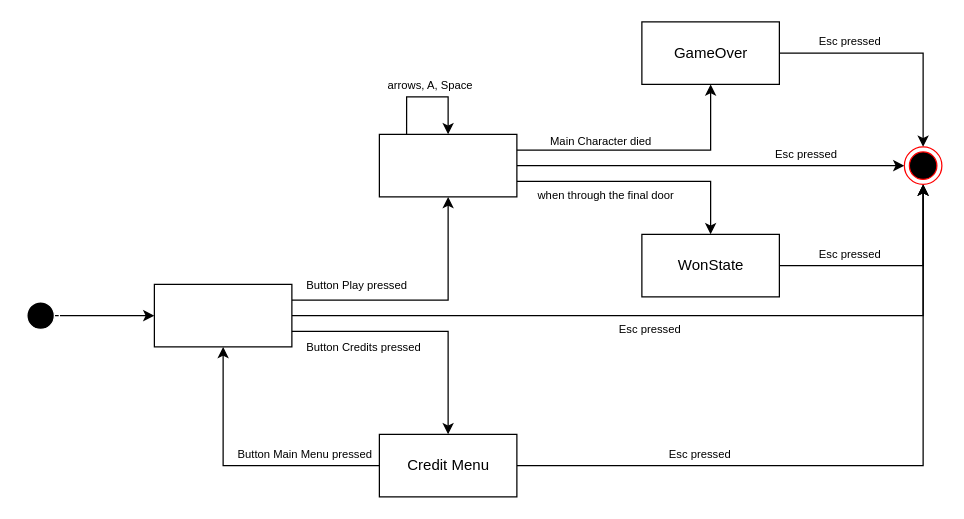
Image size: 964x519. Some labels were removed from this diagram. The centre of each missing label's shape, as x and y in pixels:
Gameplay: point (447, 165)
Start Menu: point (222, 315)
